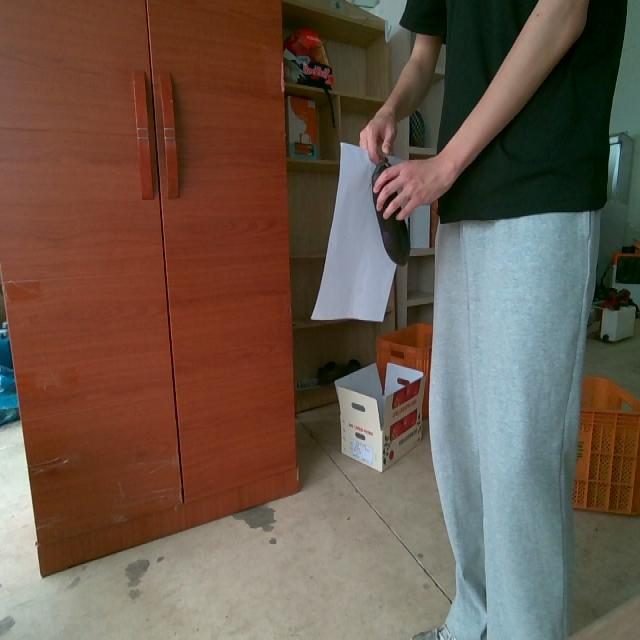Egg plant: (372, 192, 409, 264), (372, 157, 390, 187)
